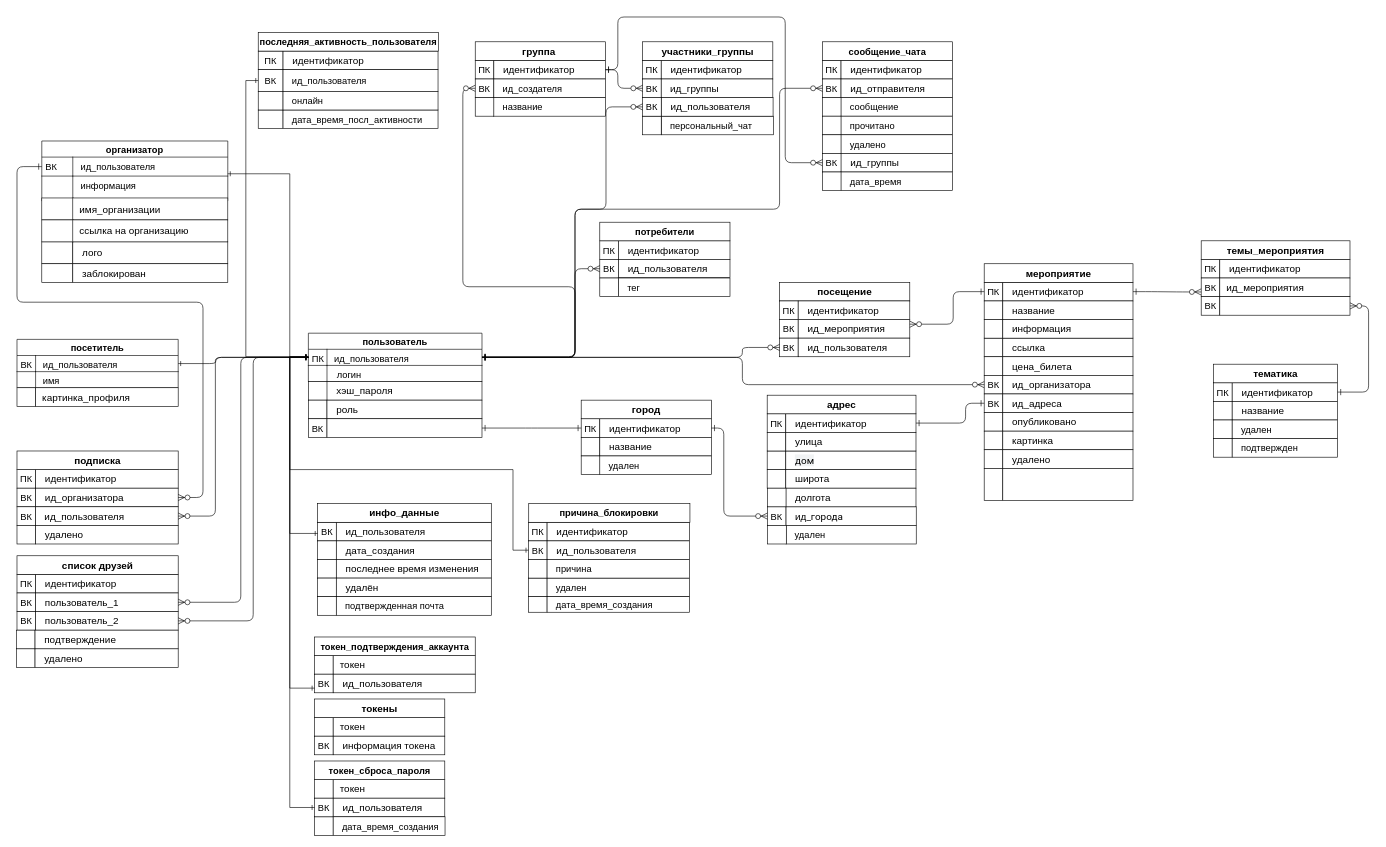
Image size: 1386x847. Some labels were removed from this diagram. Here are the shapes that lost their labels. From the top down, the centre of each, then its label:
[1284,305]: ид_темы
[404,427]: ид_города
[1067,484]: дата и время проведения
